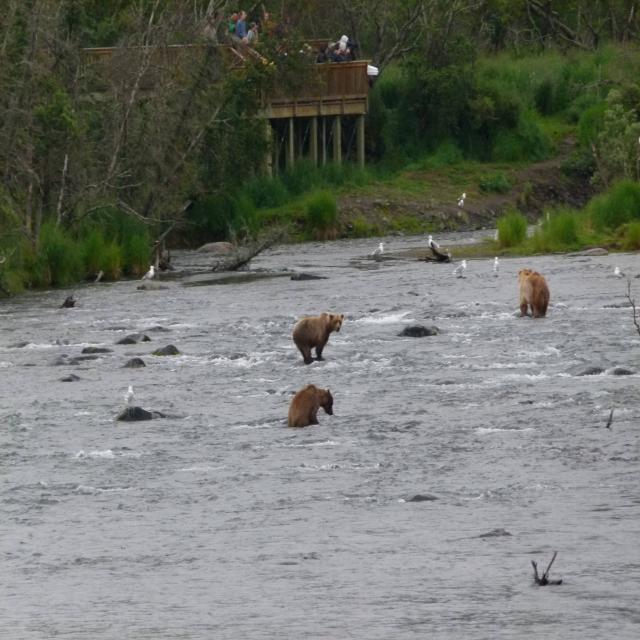bear face: (292, 311, 344, 364), (288, 386, 335, 427), (516, 269, 549, 317)
